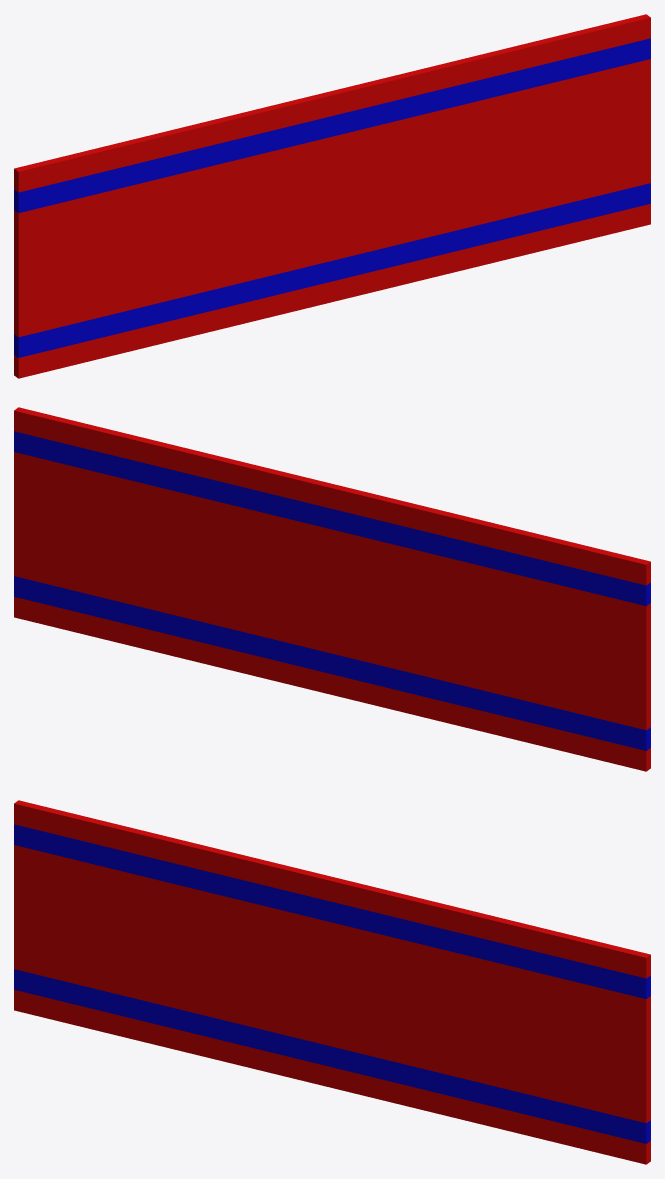
File: wall.fbx
The picture shows the model from 3 angles, top to bottom: view 1: azimuth 30°, elevation 25°; view 2: azimuth 150°, elevation 25°; view 3: azimuth 330°, elevation 25°; orthographic projection.
Parts seen in each view (by area): view 1: wall left; view 2: wall left; view 3: wall left.
Part boxes in pixels (<box>): wall left: <box>14,14,650,378</box>; wall left: <box>14,407,650,771</box>; wall left: <box>14,800,650,1164</box>.
Size of the model in its own units: 3200 by 1000 by 40.
